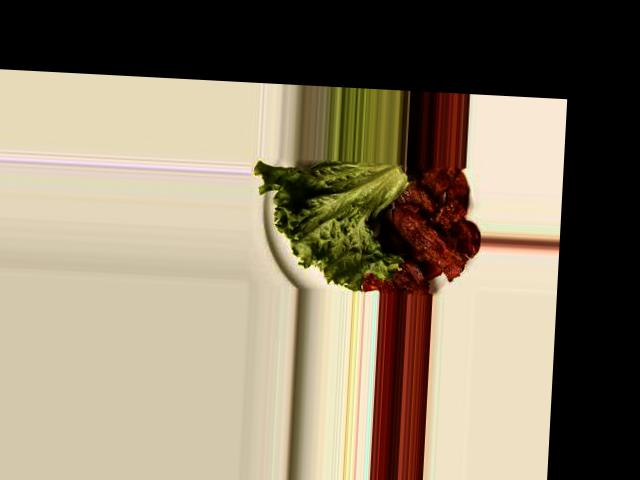lettuce: (265, 165, 443, 265)
